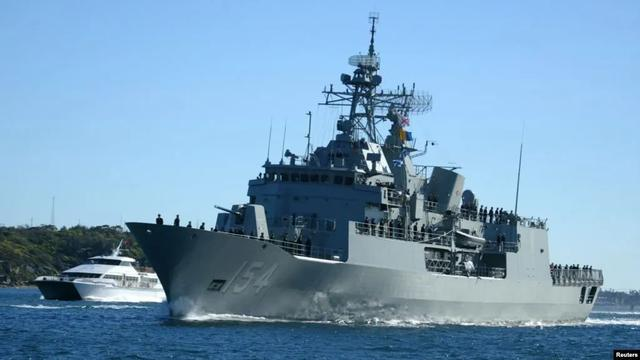warship: (128, 21, 607, 325)
yacht: (27, 247, 162, 304)
